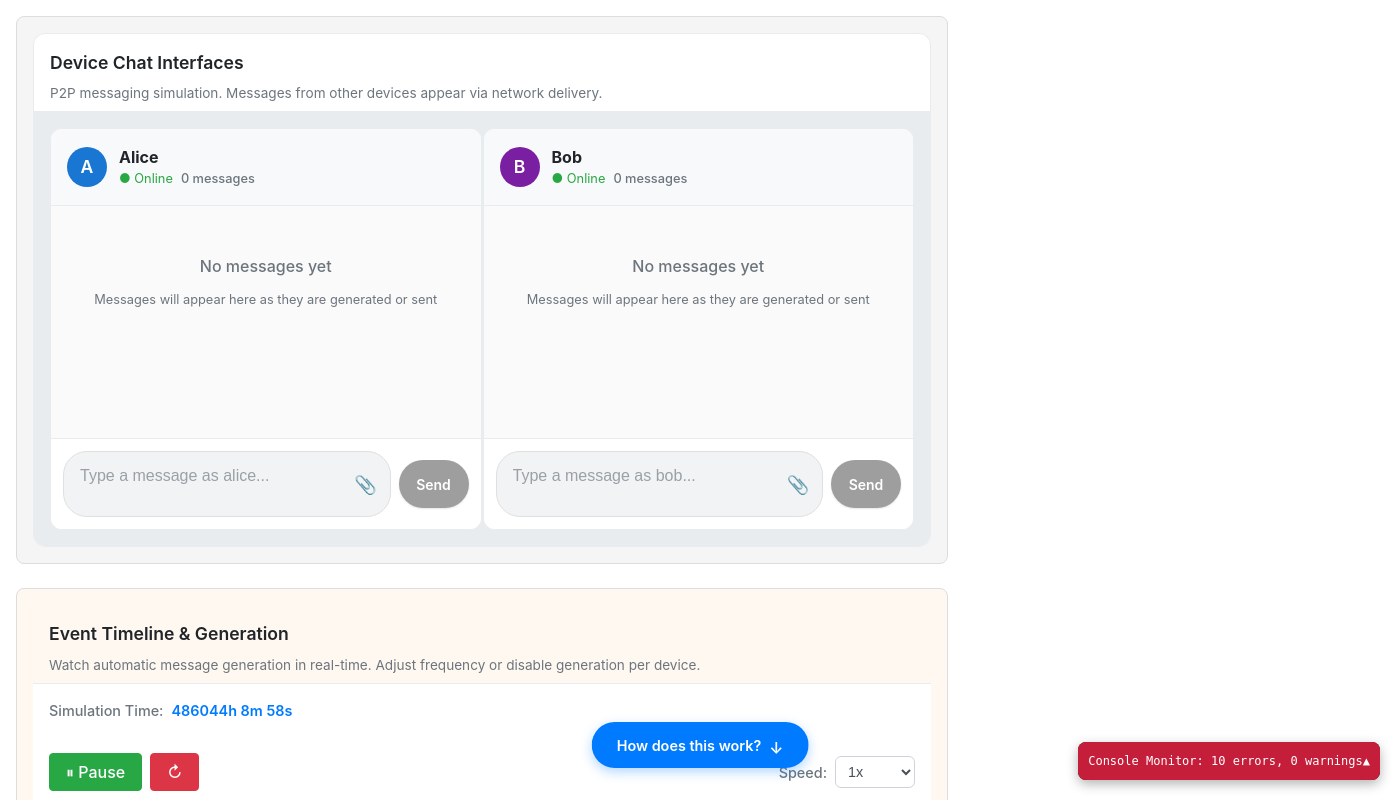
it: Mobile-Style Input Layout › should show disabled state for send button when input is empty
The image size is (1400, 800).
Expected: the 1st button with class "send-button" is disabled, [399, 460, 469, 508]
Note: Type message and button should be enabled
Type "Hello" into the field with class "message-input" showing "Type a message as alice...".
click(227, 476); type("Hello")  # box [64, 452, 390, 500]
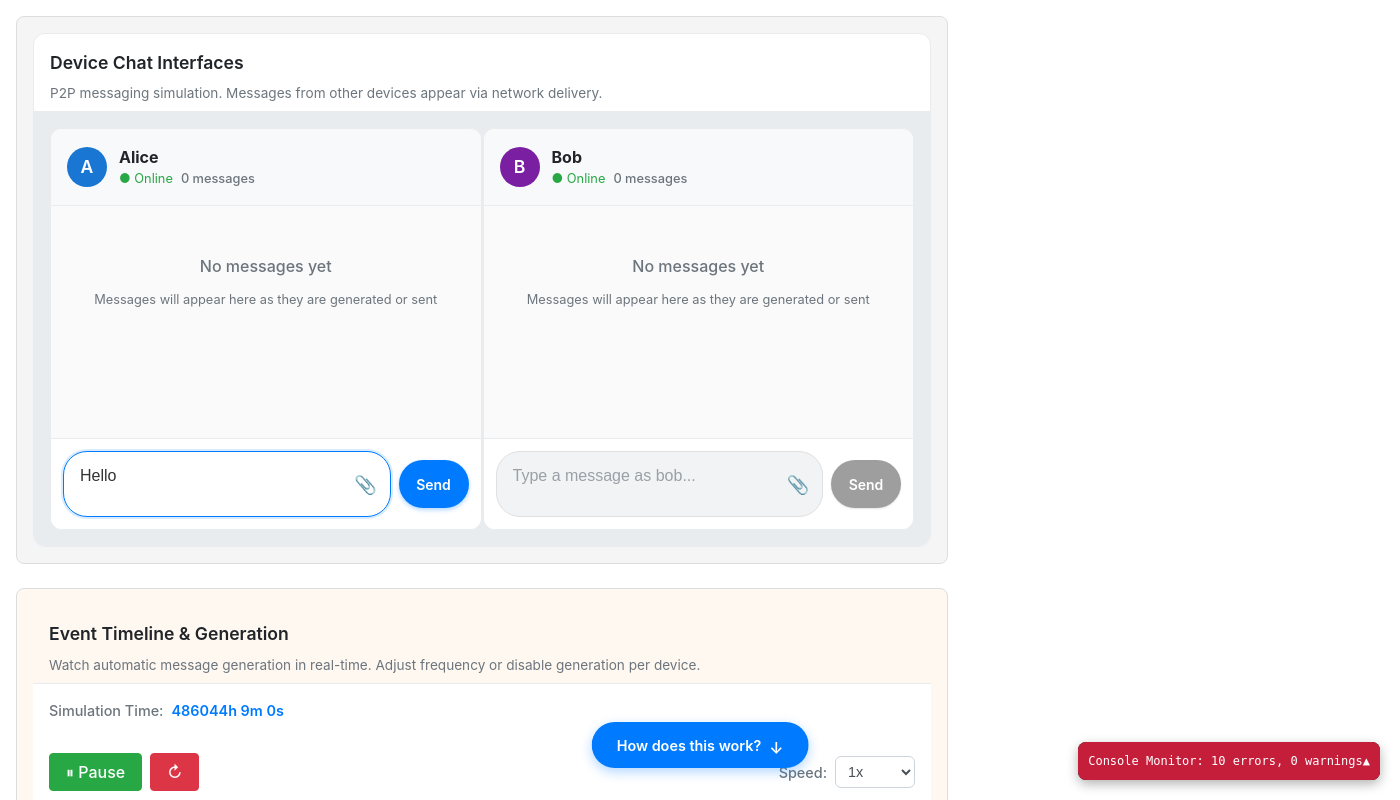
Expected: the element with class "send-button" is enabled
Note: Clear message and button should be disabled again
Clear the 1st field with class "message-input" at (227, 476), box [64, 452, 390, 500]
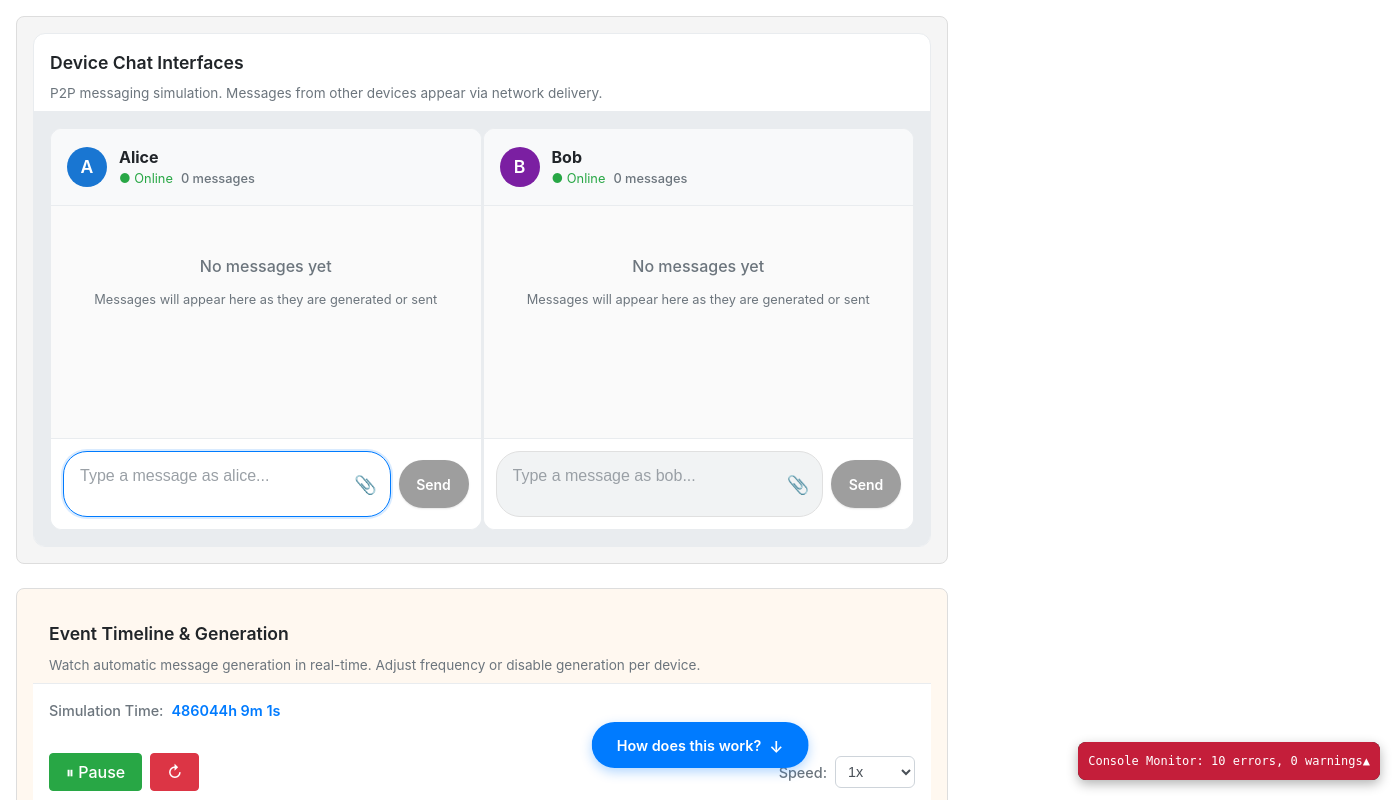
Now the 1st button with class "send-button" is disabled, box [399, 460, 469, 508]
